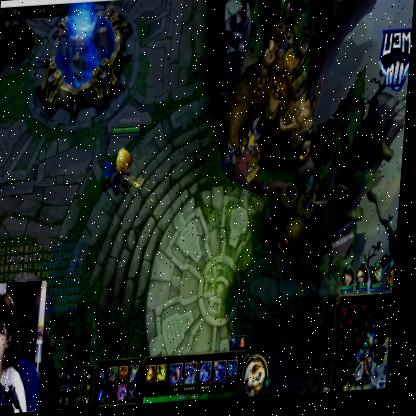streamer: (0, 291, 41, 416)
